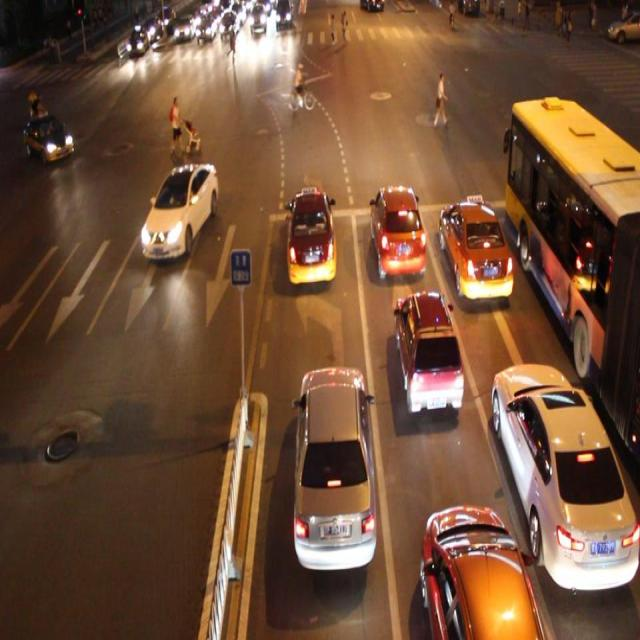car: (490, 361, 640, 593), (291, 365, 374, 572), (422, 505, 542, 640), (392, 289, 462, 413), (141, 165, 218, 268), (439, 200, 512, 305), (284, 189, 337, 289), (370, 185, 424, 281), (25, 112, 74, 164)
van: (504, 98, 640, 465)
